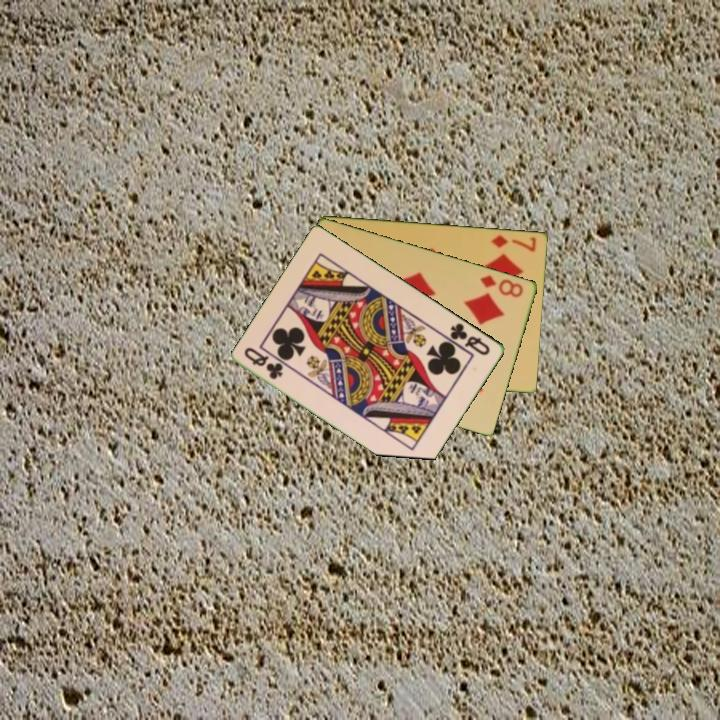7d: (488, 231, 539, 254)
8d: (477, 271, 526, 300)
Qc: (447, 319, 493, 358), (241, 343, 287, 382)
